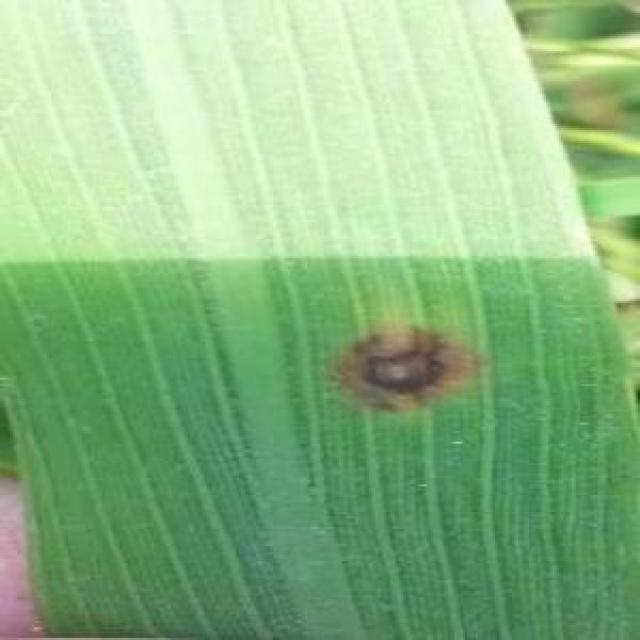Brown_Spot: (331, 314, 486, 426)
